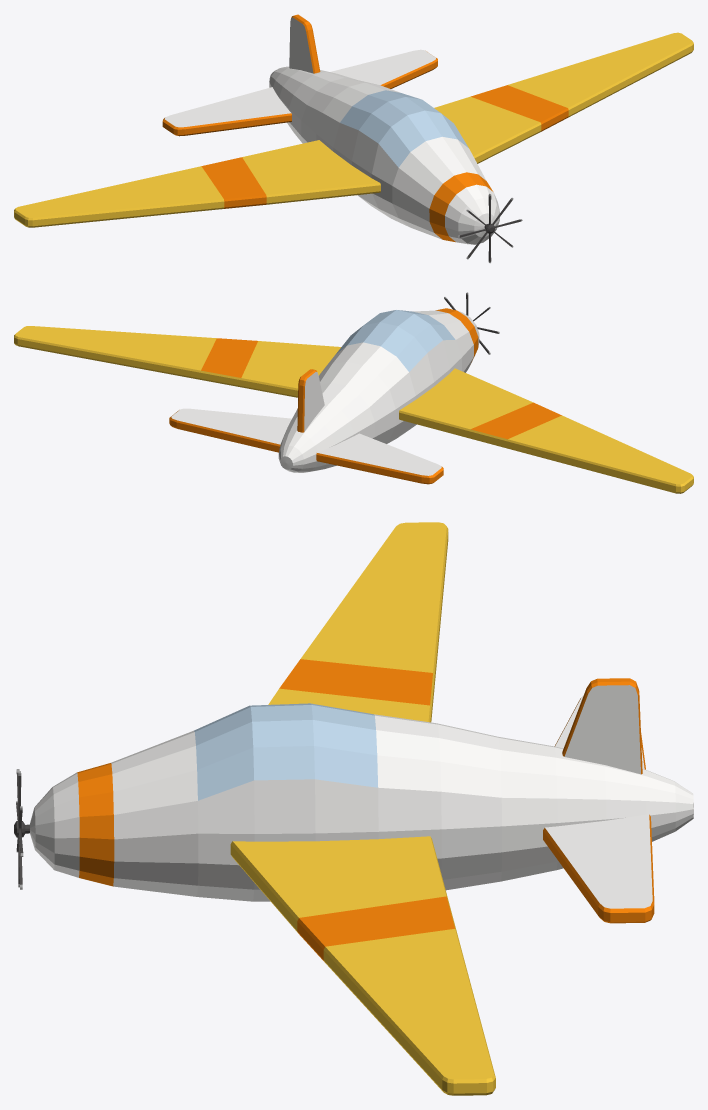
File: Isl_14_Plane.fbx
3 renders of one model, top to bottom at view 1: azimuth 30°, elevation 25°; view 2: azimuth 150°, elevation 25°; view 3: azimuth 270°, elevation 25°, orthographic. The views are drawn at different scales.
Parts seen in each view (by area): view 1: Isl_14_Plane; view 2: Isl_14_Plane; view 3: Isl_14_Plane.
Part boxes in pixels (x1,y1,x2,y2): Isl_14_Plane: [14, 14, 693, 263]; Isl_14_Plane: [14, 292, 693, 493]; Isl_14_Plane: [14, 522, 693, 1095].
Size of the model in its own units: 2031 by 1044 by 352.
Materials: 1 (1 with a texture image).
